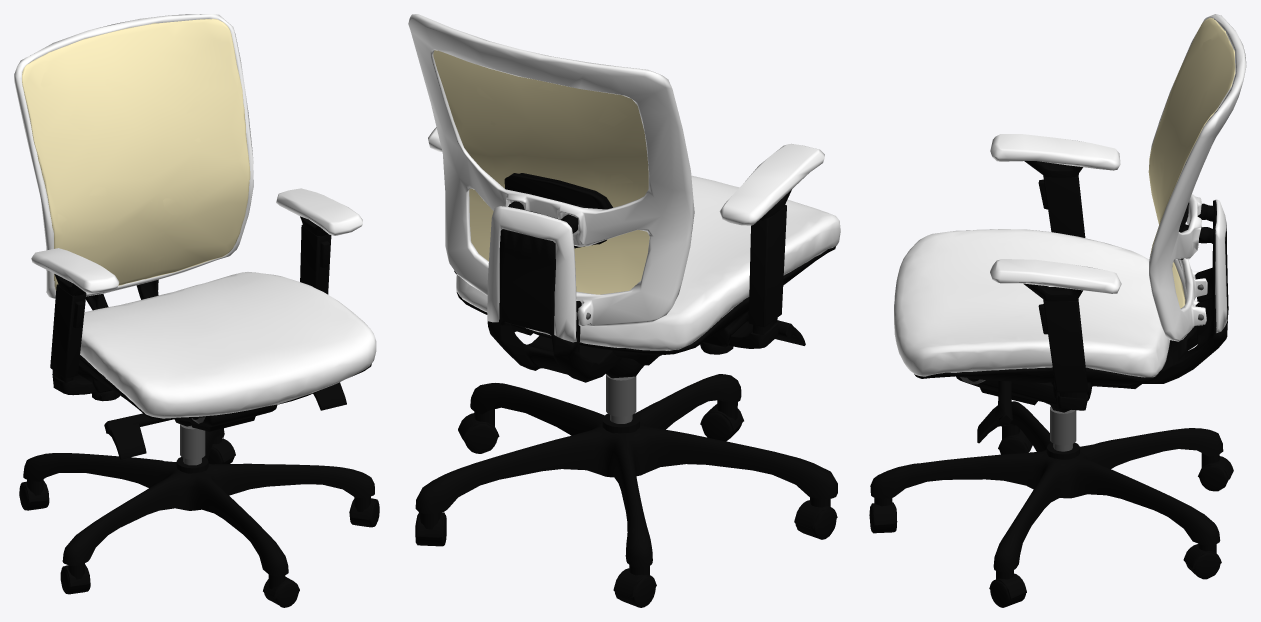
File: OfficeChair.FBX
3 views of the same model, side by side, from view 1: azimuth 30°, elevation 25°; view 2: azimuth 150°, elevation 25°; view 3: azimuth 270°, elevation 25° (orthographic). The views are drawn at different scales.
Parts seen in each view (by area): view 1: OfficeChair; view 2: OfficeChair; view 3: OfficeChair.
Part boxes in pixels (left/top/right/bottom): OfficeChair: left=14, top=14, right=379, bottom=607; OfficeChair: left=408, top=14, right=840, bottom=607; OfficeChair: left=869, top=14, right=1246, bottom=607.
Size of the model in its own units: 6.93 by 9.48 by 6.9.
